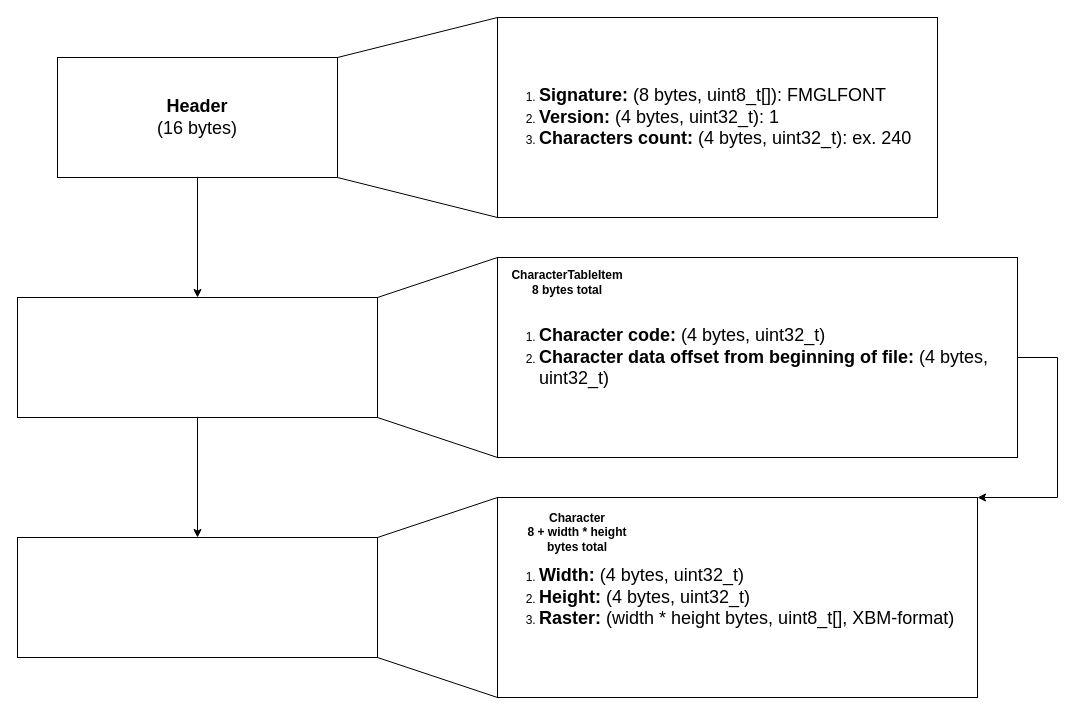
Some shapes in this 1083 by 716 pixel diagram are drawn without their labels. Here are the shapes that lost their labels. From the top down, the centre of each, then its label:
the point at 197,357: Characters table CharacterTableItem[CharactersCount] 8 bytes x CharactersCount
the point at 197,597: Characters Character[CharactersCount]
